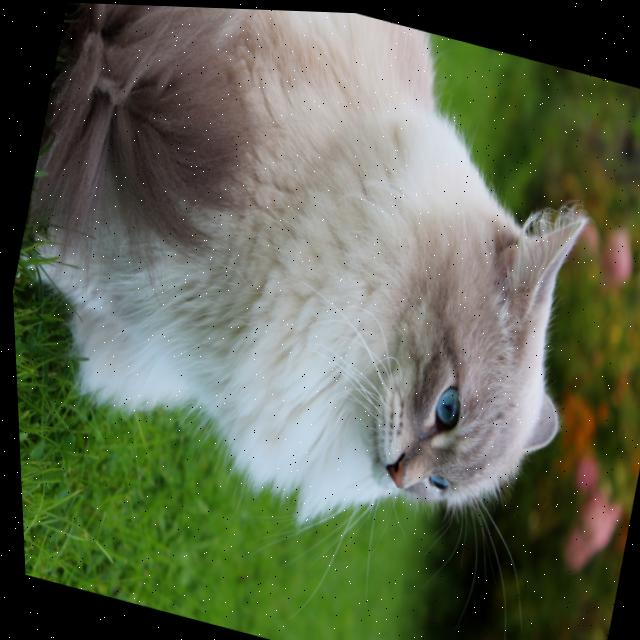Neva Masquerade: (0, 0, 640, 592)
